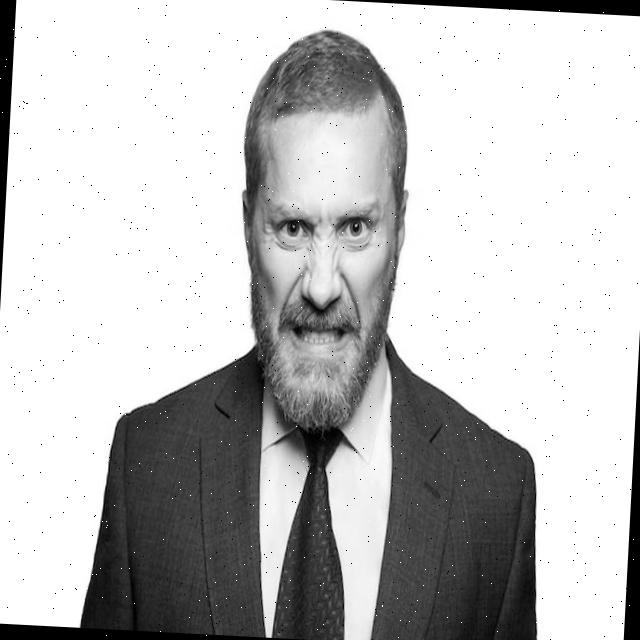Angry: (242, 110, 404, 430)
